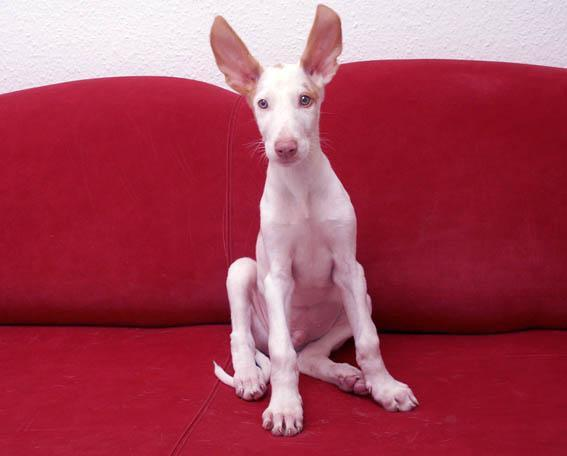Ibizan_hound: (206, 2, 420, 440)
